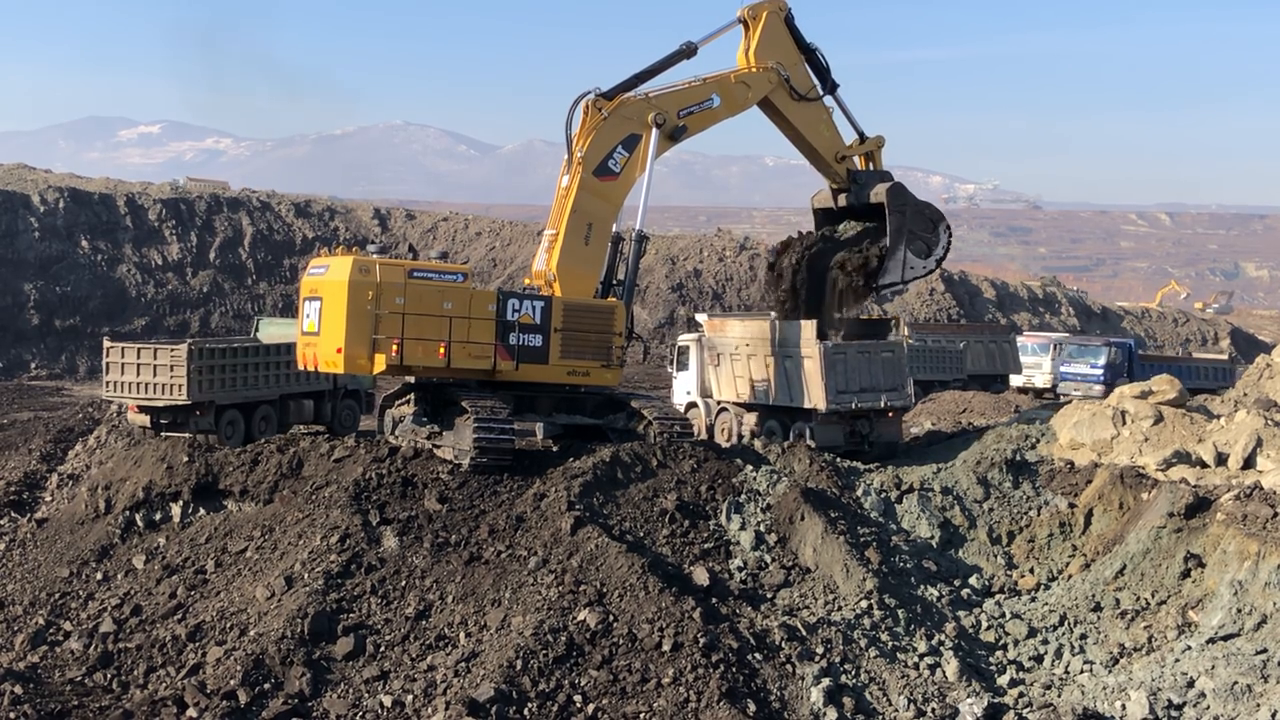full: (793, 166, 956, 300)
